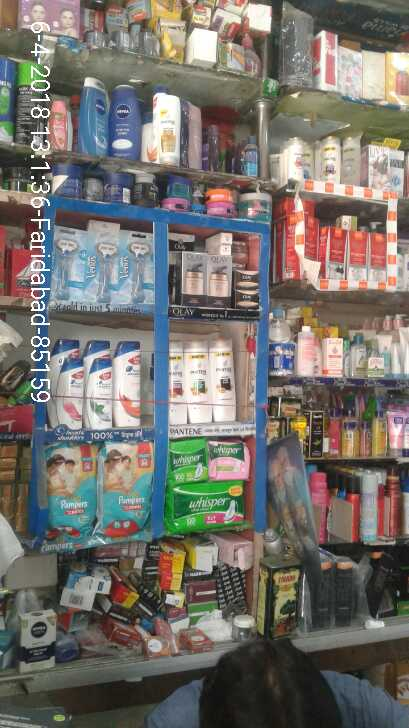venus: (55, 223, 90, 304), (120, 229, 154, 303), (90, 223, 121, 303)
